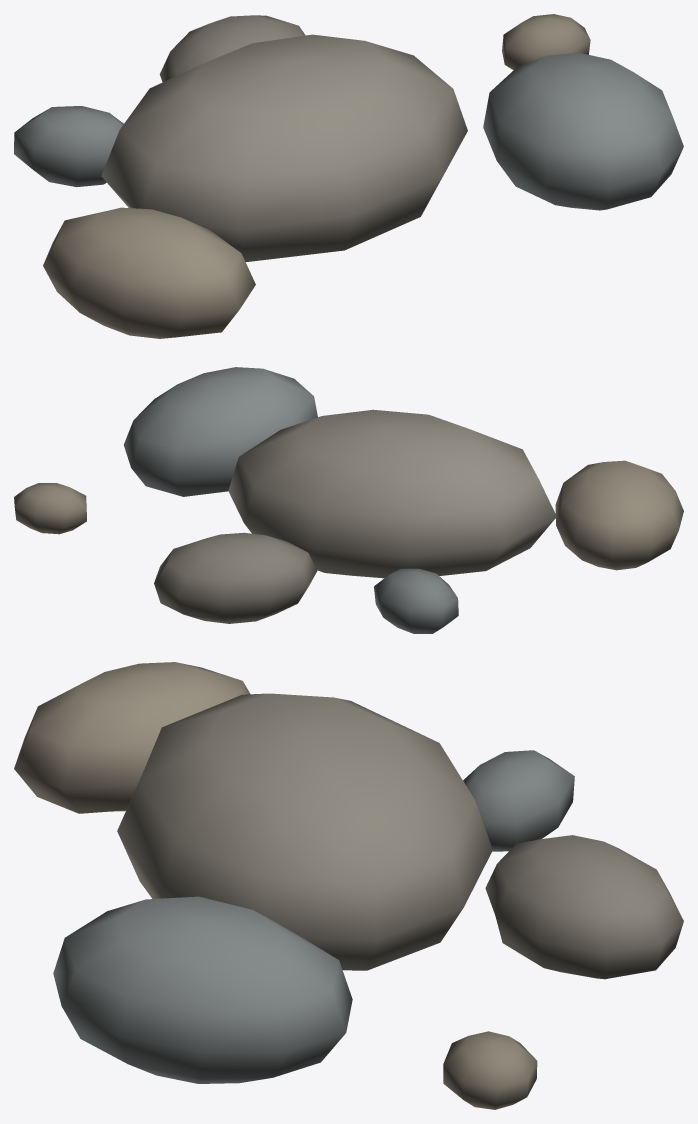
File: river-stones-a.glb
The picture shows the model from 3 angles, top to bottom: view 1: azimuth 30°, elevation 25°; view 2: azimuth 150°, elevation 25°; view 3: azimuth 270°, elevation 25°; orthographic projection. The views are drawn at different scales.
Visible parts, largest first — view 1: river-stones-a; view 2: river-stones-a; view 3: river-stones-a.
Boxes of the visible parts, box(x1,y1,x2,y2) form: river-stones-a: box(14, 14, 683, 338); river-stones-a: box(14, 367, 683, 633); river-stones-a: box(14, 662, 683, 1109).
Size of the model in its own units: 0.9843 by 0.2198 by 0.731.
